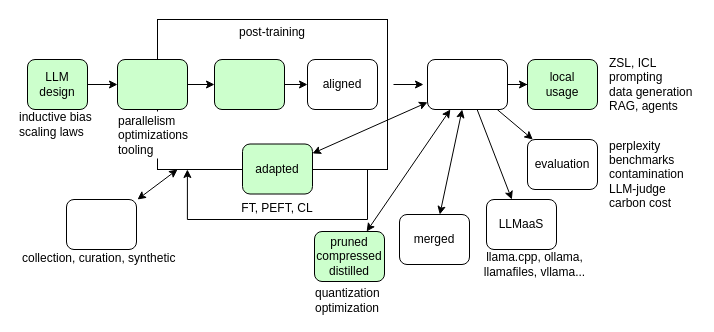
Some shapes in this 714 by 332 pixel diagram are drawn without their labels. Each missing label, with the box of its shape:
data pipeline: (66, 198, 136, 250)
disseminated: (426, 58, 508, 110)
instruct finetuned: (214, 58, 284, 110)
pretrained: (116, 58, 188, 110)
